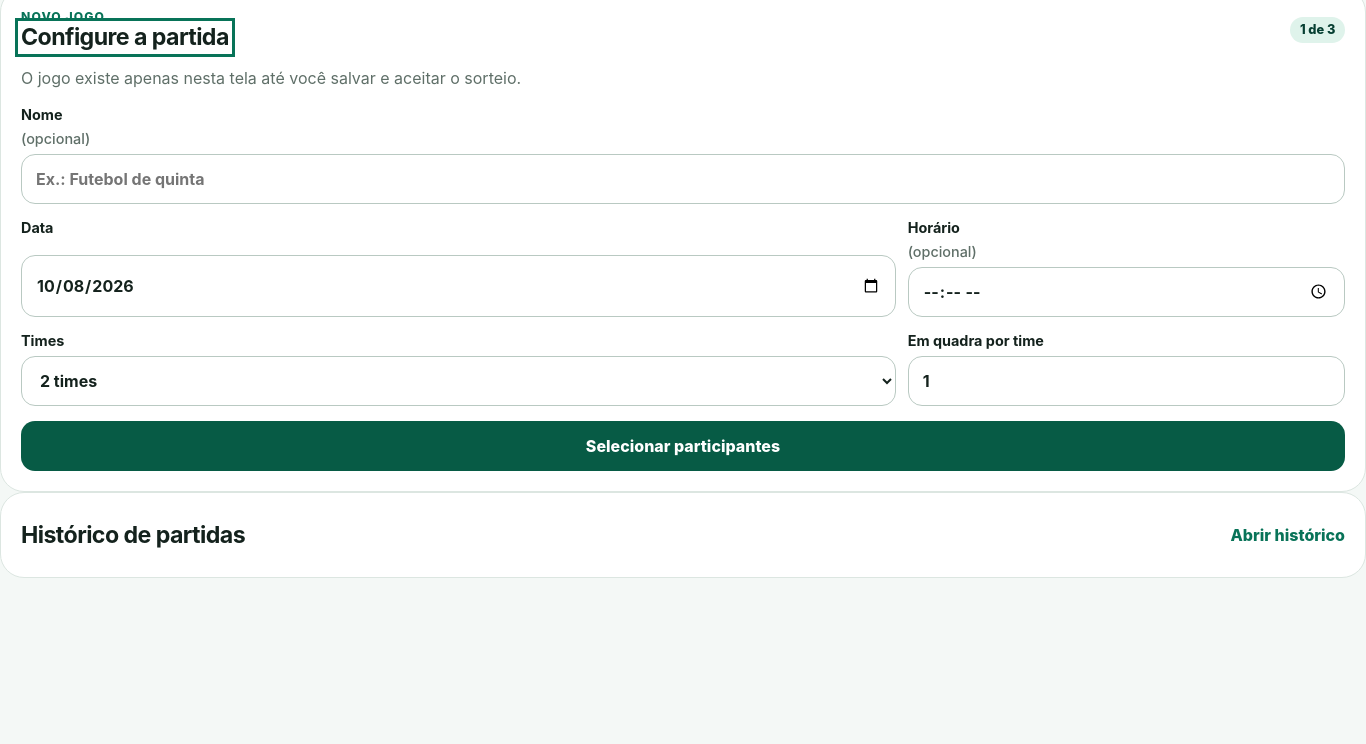
histórico e detalhe da Fase 7 › após salvar abre o detalhe e permite nova partida sem salvar novamente o resultado aceito
This screenshot has width=1366, height=744.
What coordinates should you click on to do the following:
click the button "Selecionar participantes"
I would click on:
 (683, 446)
Its box is [21, 421, 1345, 471].
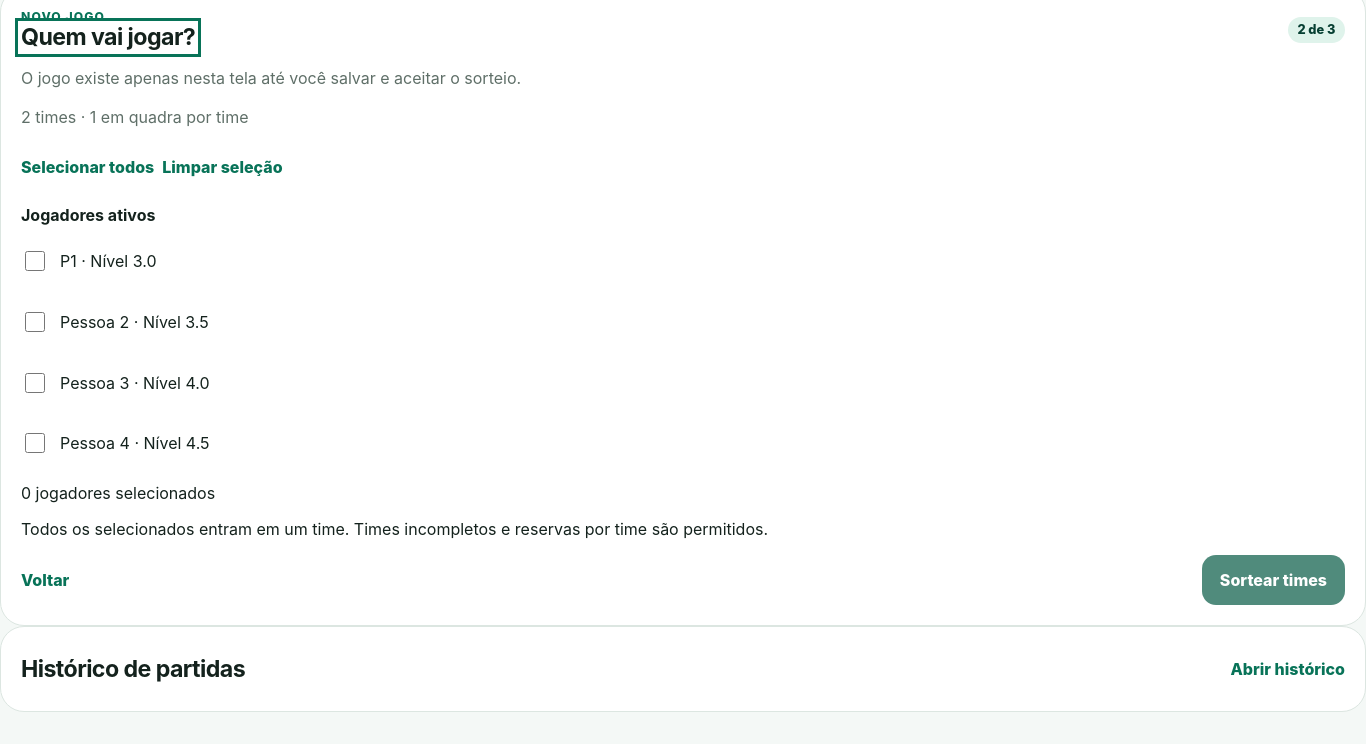
What coordinates should you click on to do the following:
click the button "Selecionar todos"
I would click on:
 (88, 167)
Its box is [21, 145, 154, 189].
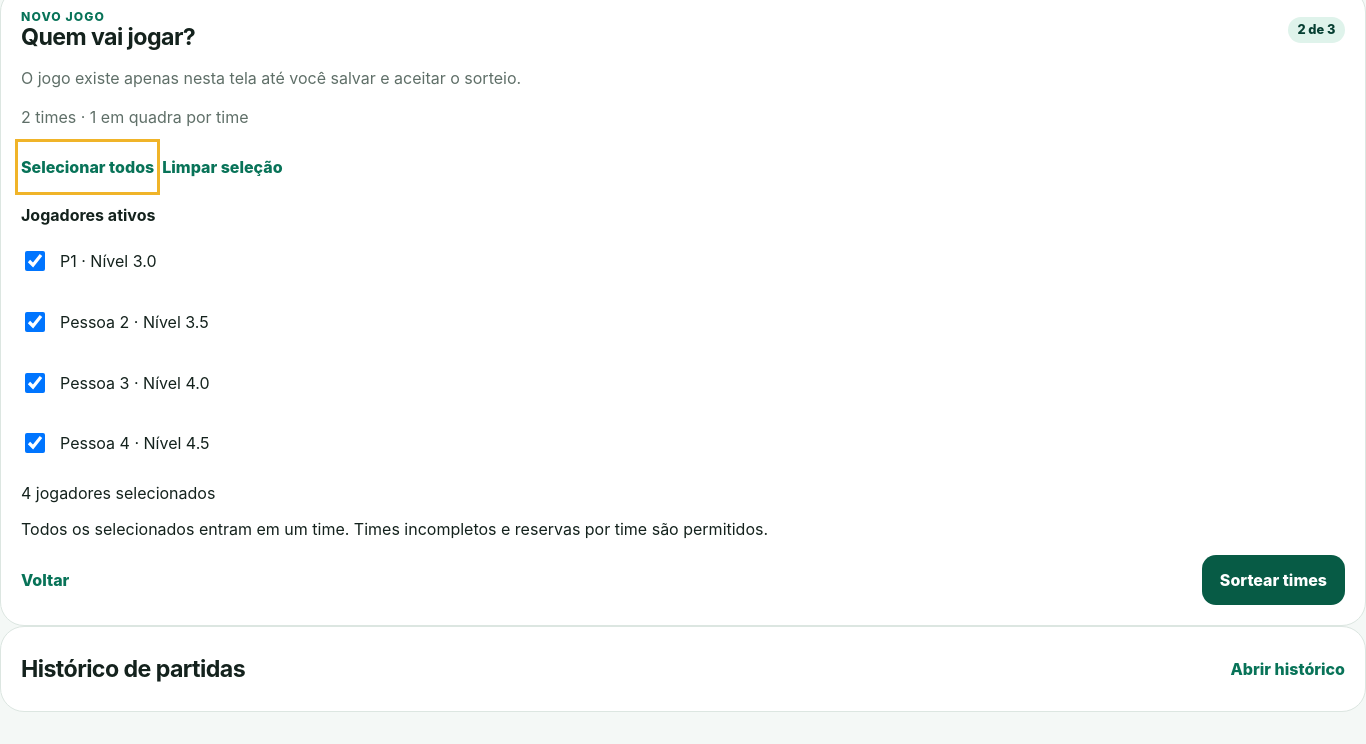
What coordinates should you click on to do the following:
click the button "Sortear times"
I would click on:
 (1273, 580)
Its box is [1202, 555, 1345, 605].
(page scrolled)
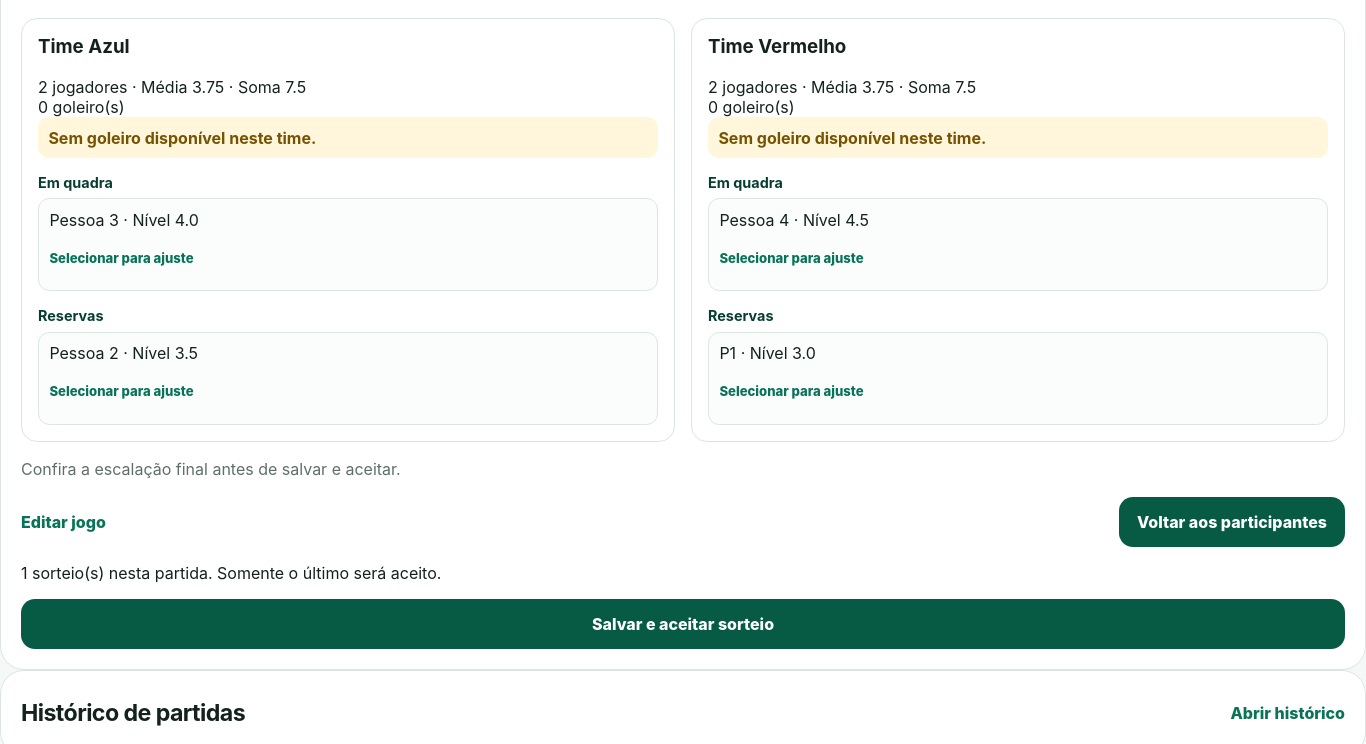
What coordinates should you click on to do the following:
click the button "Salvar e aceitar sorteio"
I would click on:
 (683, 624)
Its box is [21, 599, 1345, 649].
(page scrolled)
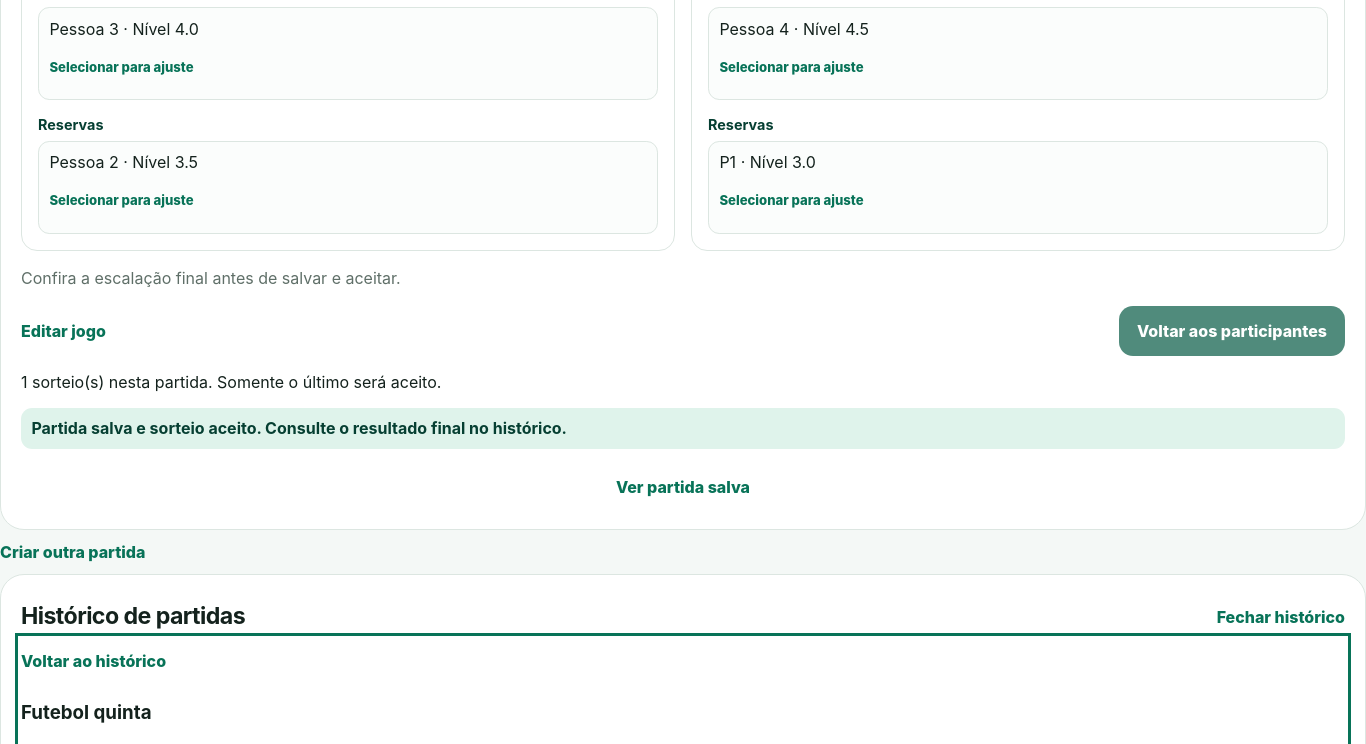
Result: the heading "Futebol quinta" is shown at [21, 701, 152, 724]
Result: the button "Salvar e aceitar sorteio" is gone
What coordinates should you click on to do the following:
click the button "Criar outra partida"
I would click on:
 (73, 552)
Its box is [0, 530, 145, 574].
(page scrolled)
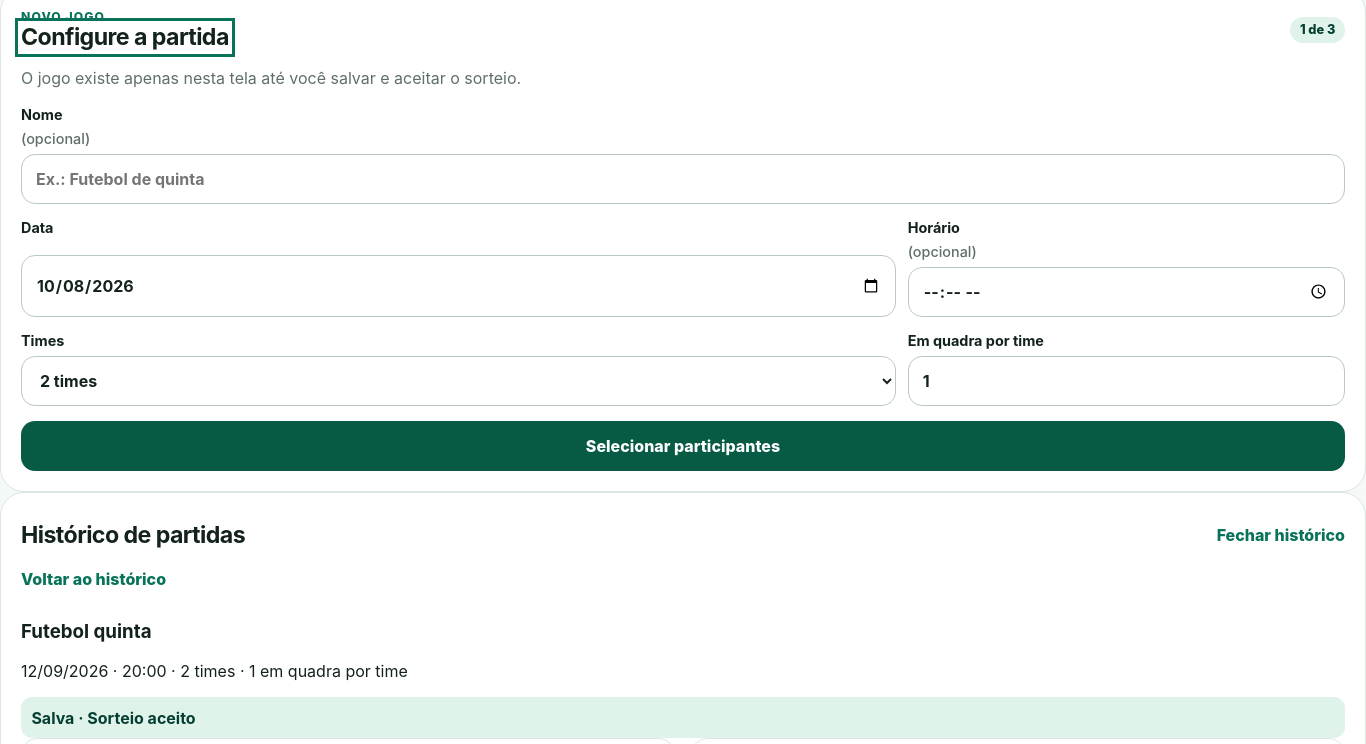
Result: the heading "Configure a partida" is shown at [21, 24, 229, 51]
